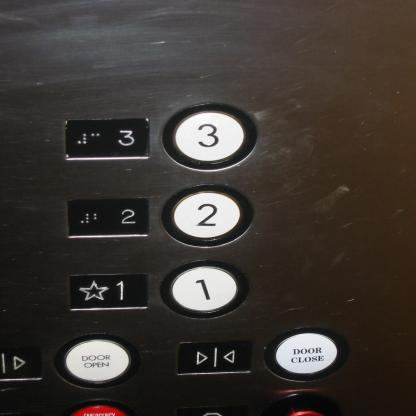1: (158, 258, 251, 319)
2: (158, 182, 253, 247), (66, 196, 147, 238)
3: (160, 101, 258, 170), (62, 113, 154, 161)
close: (174, 340, 254, 375)
s1: (70, 273, 148, 313)
text_close door: (264, 325, 350, 382)
text_open door: (52, 330, 144, 388)
